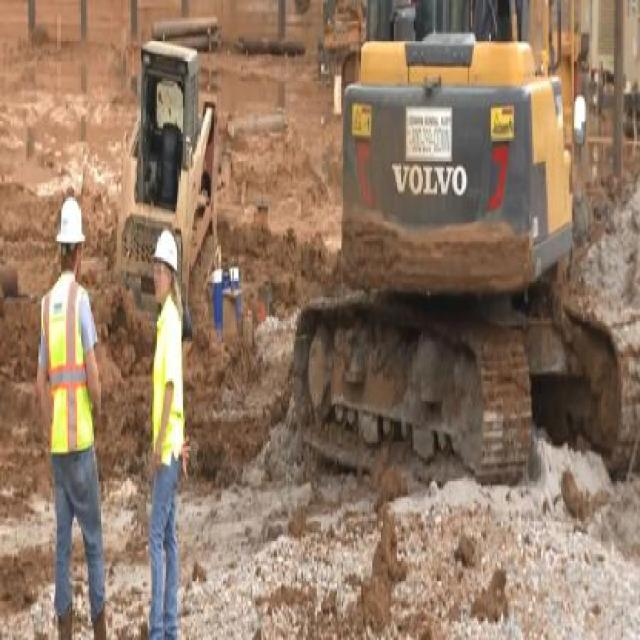Vest: (37, 271, 95, 458), (150, 304, 187, 466)
helmet: (149, 225, 181, 278), (56, 193, 85, 250)
person: (34, 192, 104, 640), (140, 227, 193, 640)
